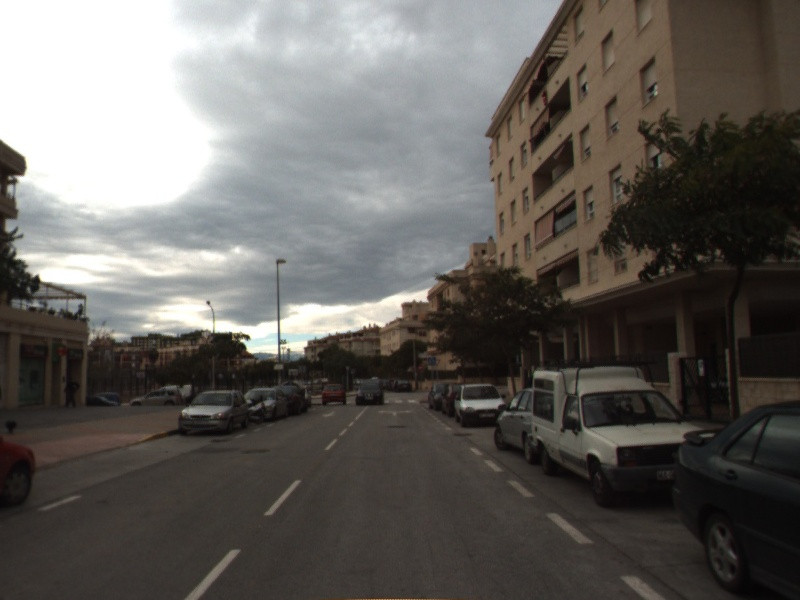LEFT_RIGHT: (376, 407, 415, 418)
